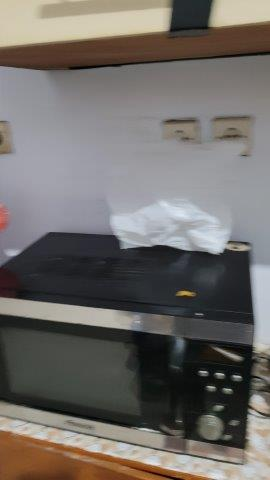plastik: (112, 141, 246, 256)
